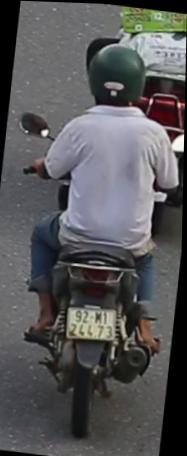LP: (64, 297, 119, 344)
helmet: (79, 37, 150, 121)
